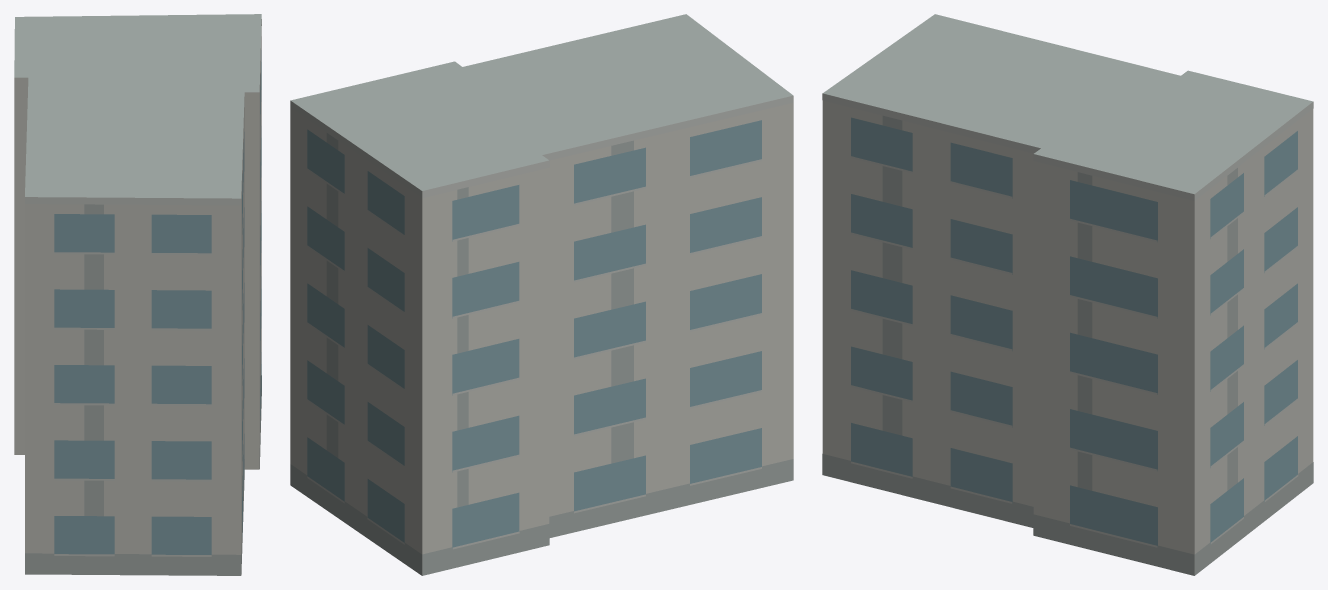
The model's file is survey-upis-32912384.glb.
3 renders of one model, left to right at view 1: azimuth 30°, elevation 25°; view 2: azimuth 150°, elevation 25°; view 3: azimuth 270°, elevation 25°, orthographic.
Visible parts, largest first — view 1: survey-upis-32912384.tmp; view 2: survey-upis-32912384.tmp; view 3: survey-upis-32912384.tmp.
Part boxes in pixels (bbox=[...]): survey-upis-32912384.tmp: bbox=[14, 14, 261, 575]; survey-upis-32912384.tmp: bbox=[290, 14, 793, 575]; survey-upis-32912384.tmp: bbox=[822, 14, 1313, 575].
Bounding box in the file's own units: 13.38 × 13.2 × 15.4.
